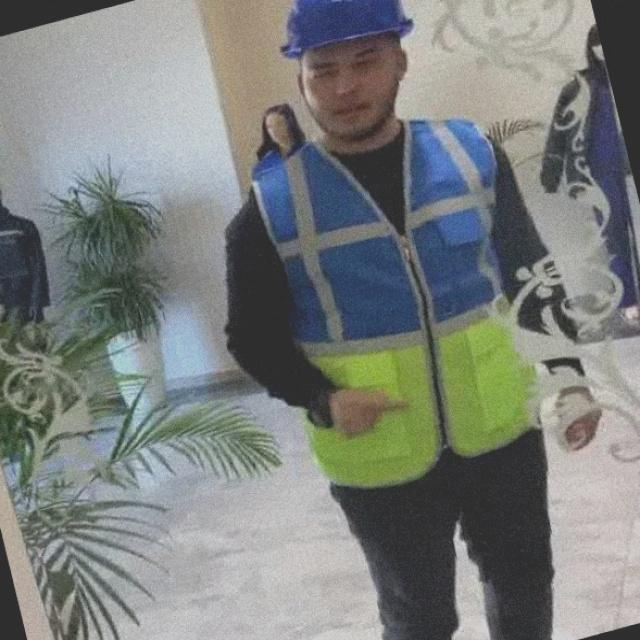Capacete: (281, 0, 412, 58)
Colete: (254, 119, 534, 486)
Pessoa: (226, 0, 553, 639), (540, 24, 639, 329), (252, 103, 305, 177)
